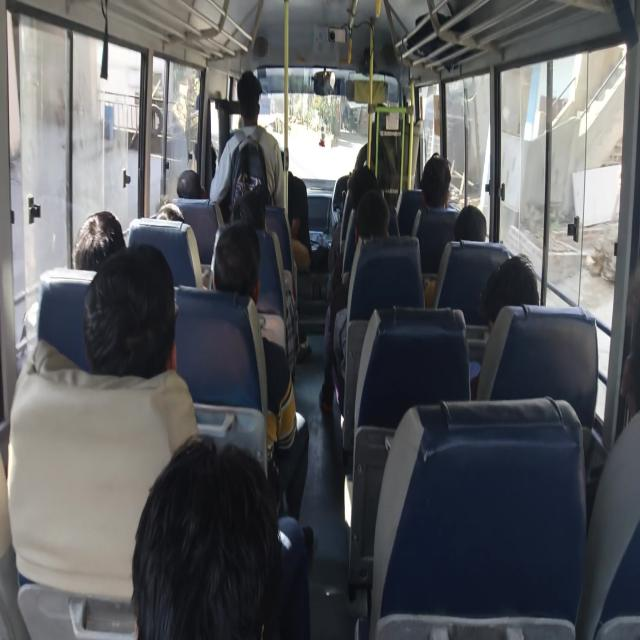person: (126, 438, 348, 640), (80, 249, 172, 396), (594, 318, 640, 468), (1, 215, 128, 269), (206, 237, 266, 334), (236, 174, 279, 280), (450, 209, 503, 289), (492, 271, 547, 336), (237, 78, 280, 161), (267, 145, 302, 239), (178, 165, 208, 228), (231, 193, 264, 240), (360, 202, 385, 263), (156, 193, 184, 237), (200, 132, 223, 181), (424, 165, 449, 208), (344, 182, 379, 205)
